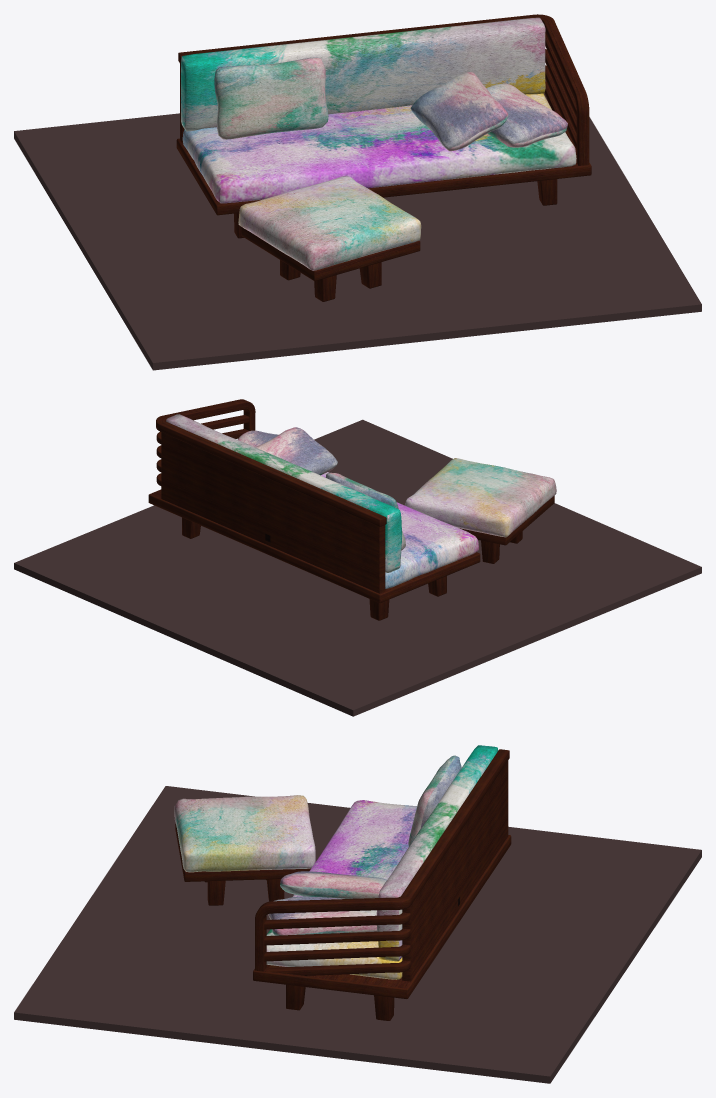
Rendered from sofa.glb.
The picture shows the model from 3 angles, top to bottom: view 1: azimuth 30°, elevation 25°; view 2: azimuth 150°, elevation 25°; view 3: azimuth 270°, elevation 25°; orthographic projection. The views are drawn at different scales.
Parts seen in each view (by area): view 1: Plane, sofa_lopo; view 2: Plane, sofa_lopo; view 3: Plane, sofa_lopo.
Part boxes in pixels (x1=…): Plane: x1=14, y1=79, x2=701, y2=370; sofa_lopo: x1=176, y1=14, x2=591, y2=301; Plane: x1=14, y1=419, x2=701, y2=716; sofa_lopo: x1=148, y1=399, x2=556, y2=620; Plane: x1=14, y1=786, x2=701, y2=1083; sofa_lopo: x1=174, y1=745, x2=511, y2=1020.
Size of the model in its own units: 4.44 by 1.01 by 4.44.
Materials: 2 (1 with a texture image).
